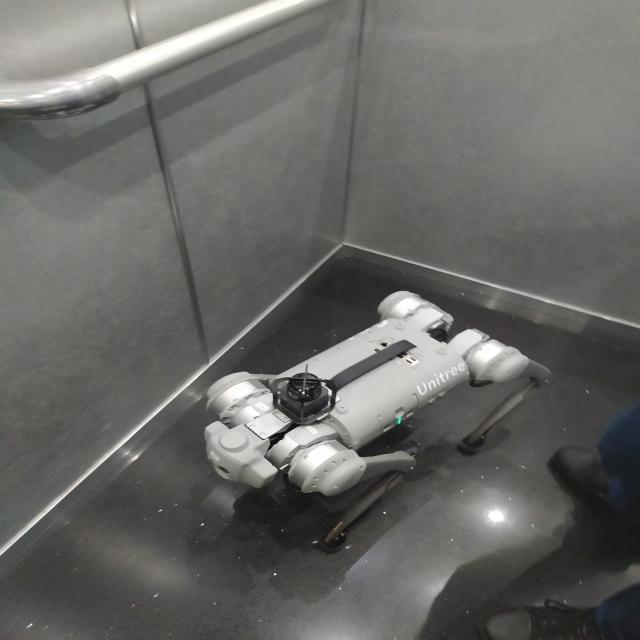unitree-go1-robot: (192, 283, 560, 569)
